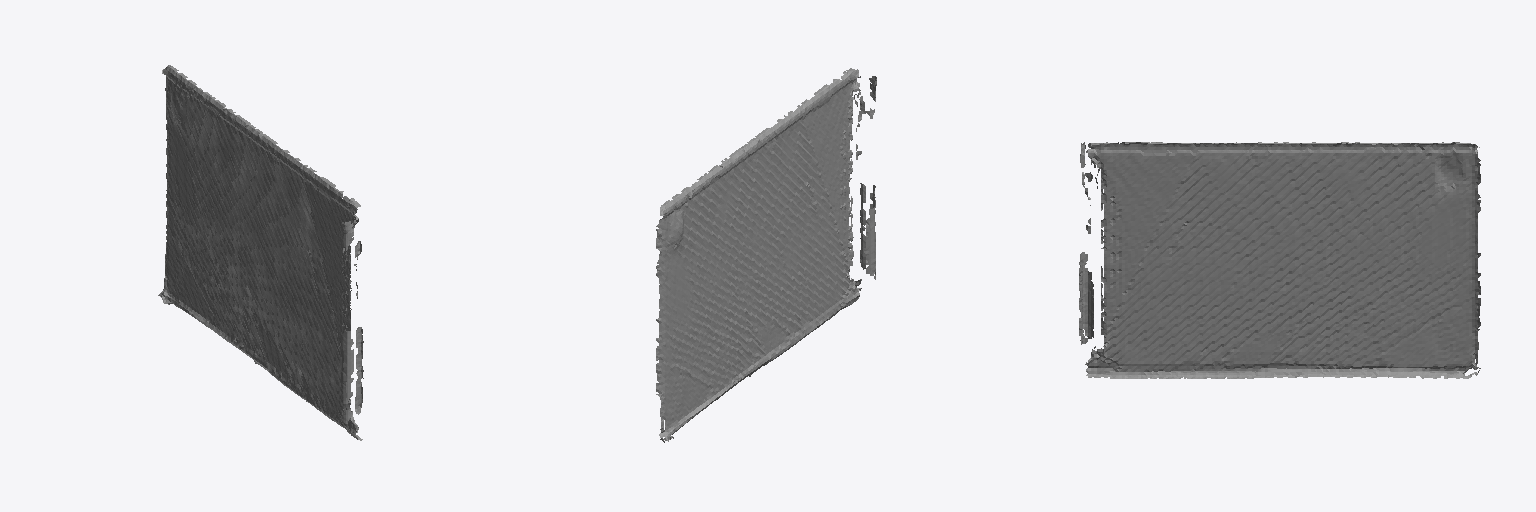
Rendered from prop0_inst0_part.obj.
The picture shows the model from 3 angles: view 1: azimuth 30°, elevation 25°; view 2: azimuth 150°, elevation 25°; view 3: azimuth 270°, elevation 25°; orthographic projection.
Bounding box in the file's own units: 0.085 × 0.8433 × 1.3.